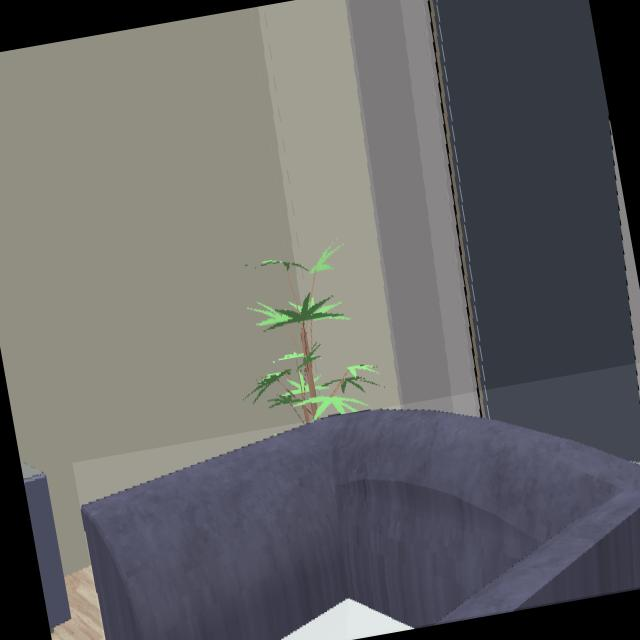sofa: (81, 410, 640, 640)
